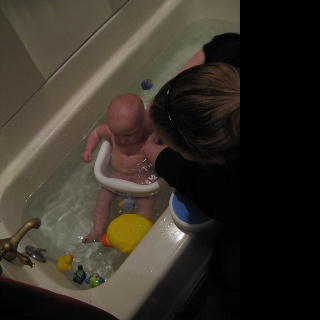without_mask: (106, 120, 145, 147)
